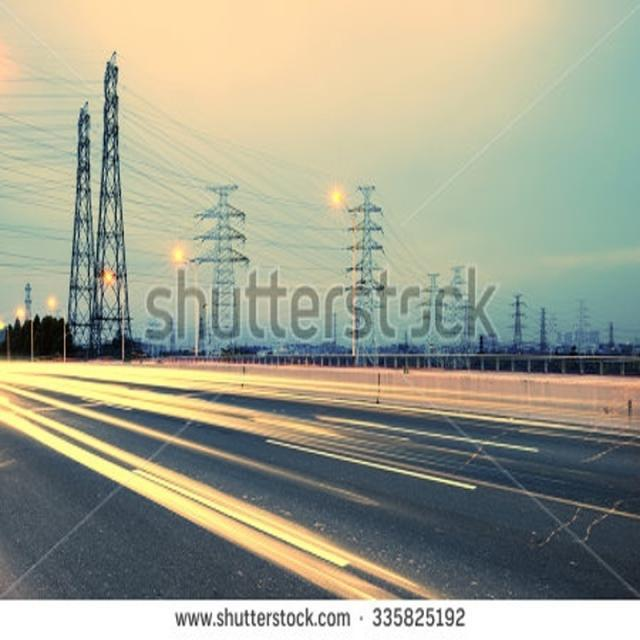non-critical vegetation: (72, 48, 142, 350)
